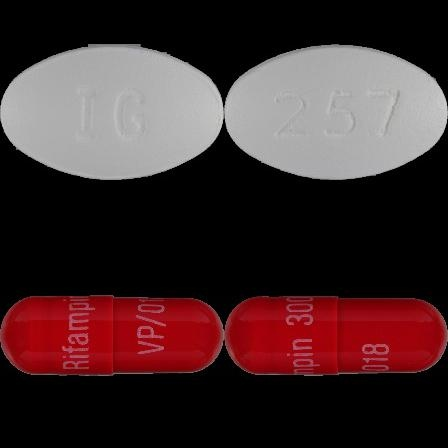52959-650: (0, 0, 224, 224)
